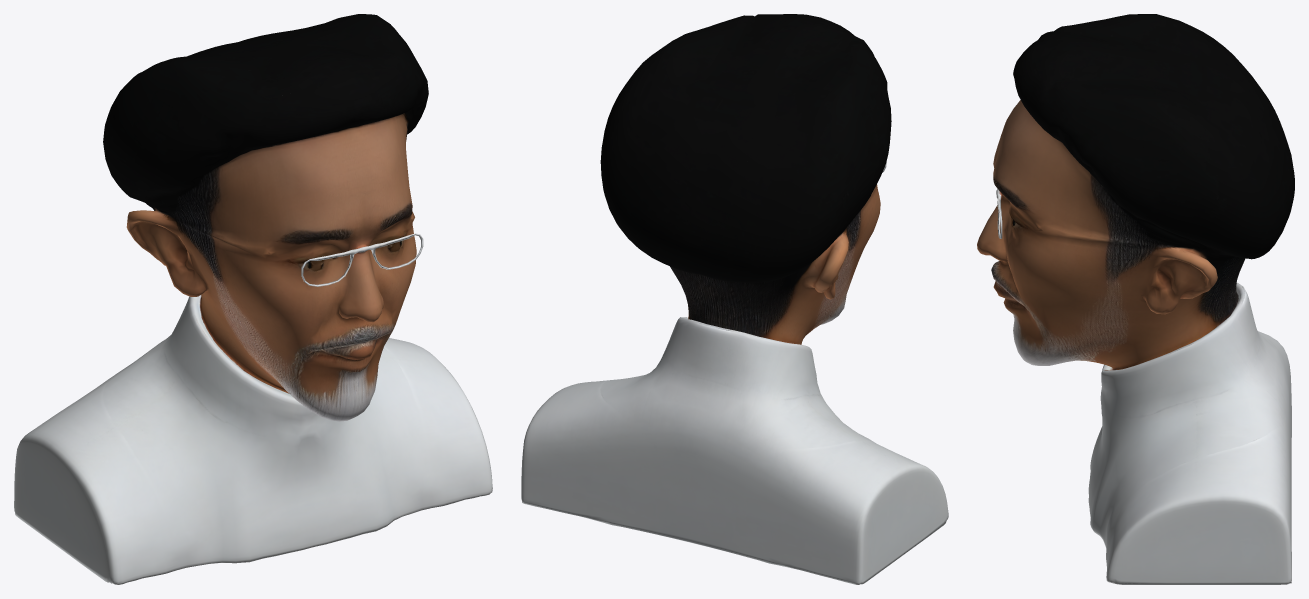
Rendered from ahmaddahlan.glb.
3 renders of one model, left to right at view 1: azimuth 30°, elevation 25°; view 2: azimuth 150°, elevation 25°; view 3: azimuth 270°, elevation 25°, orthographic. The views are drawn at different scales.
Visible parts, largest first — view 1: model; view 2: model; view 3: model.
Boxes of the visible parts, x1,y1,x2,y2 form: model: (14,14,492,584); model: (521,14,948,584); model: (977,14,1294,584).
Size of the model in its own units: 1.38 by 1.7 by 1.08.
1 material, 1 textured.
